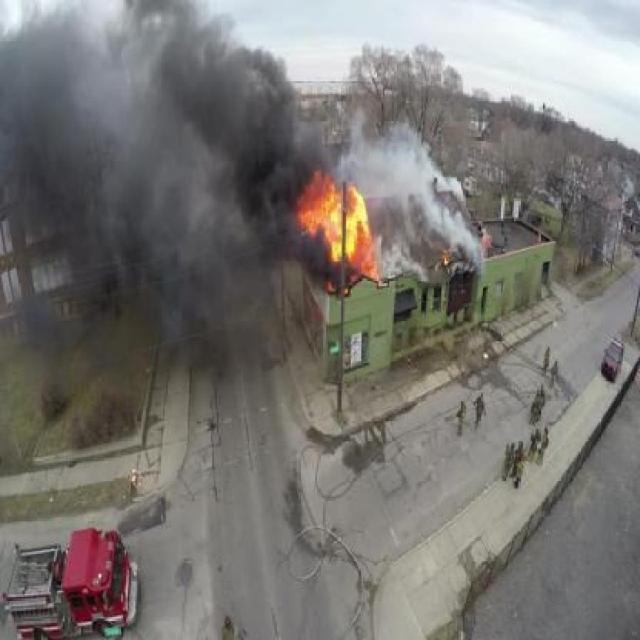Fire: (282, 159, 433, 320)
Smoke: (21, 69, 254, 288)
